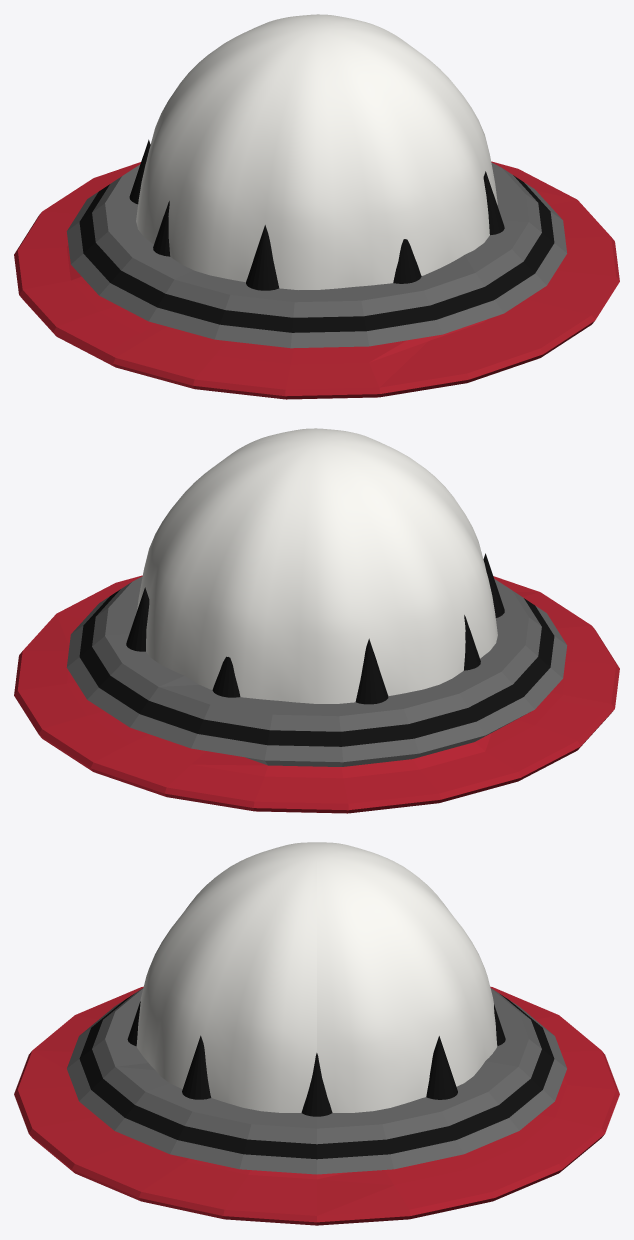
The model's file is deepseek41_t02.glb.
3 renders of one model, top to bottom at view 1: azimuth 30°, elevation 25°; view 2: azimuth 150°, elevation 25°; view 3: azimuth 270°, elevation 25°, orthographic.
Visible parts, largest first — view 1: slot_anchor_saucer, slot_dome; view 2: slot_anchor_saucer, slot_dome; view 3: slot_anchor_saucer, slot_dome.
Part boxes in pixels (x1,y1,x2,y2): slot_anchor_saucer: [14, 139, 619, 399]; slot_dome: [136, 14, 497, 289]; slot_anchor_saucer: [14, 553, 619, 813]; slot_dome: [137, 428, 497, 703]; slot_anchor_saucer: [14, 986, 619, 1225]; slot_dome: [136, 842, 497, 1112].
Size of the model in its own units: 2 by 1.2 by 2.
Materials: 2 (1 with a texture image).
